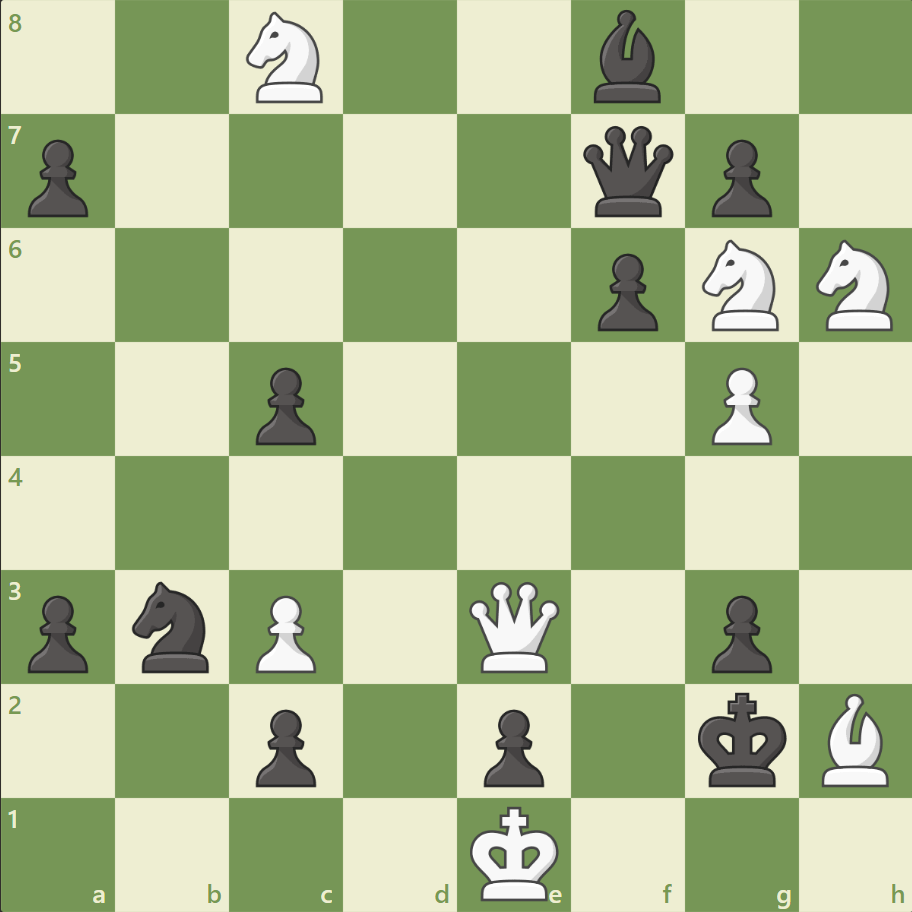B: (812, 687, 896, 790)
K: (465, 798, 565, 906)
N: (238, 7, 335, 110), (692, 234, 789, 337), (806, 234, 903, 337)
P: (701, 359, 776, 450), (247, 586, 322, 677)
Q: (464, 576, 563, 676)
b: (585, 6, 669, 109)
k: (692, 685, 792, 793)
n: (124, 575, 222, 677)
p: (20, 132, 95, 223), (701, 132, 776, 223), (247, 359, 322, 450), (20, 586, 95, 677), (701, 586, 776, 677), (247, 700, 322, 791), (474, 700, 549, 791), (588, 246, 662, 337)
q: (578, 122, 677, 222)
